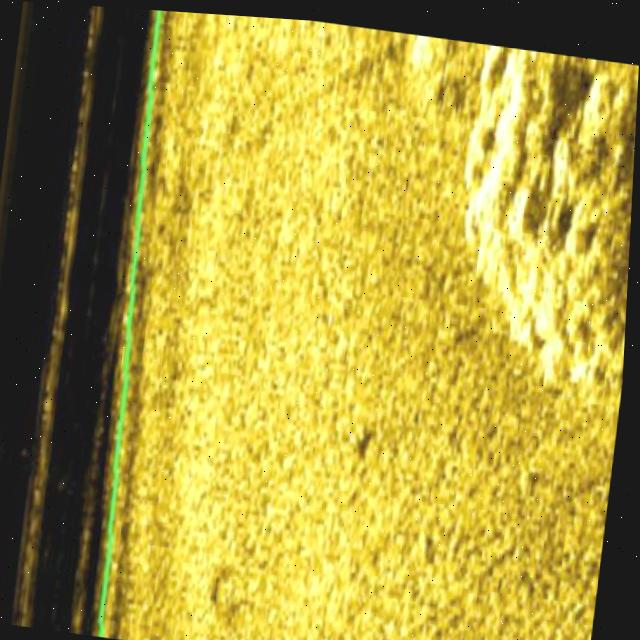bedrock group: (426, 33, 640, 377)
